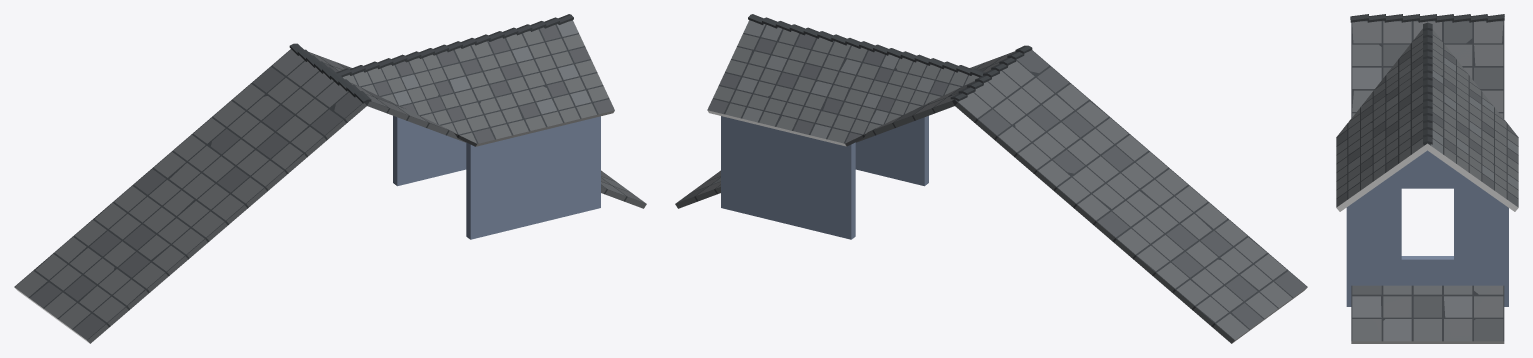
The model's file is Roof4_C8_06.fbx.
The picture shows the model from 3 angles, left to right: view 1: azimuth 30°, elevation 25°; view 2: azimuth 150°, elevation 25°; view 3: azimuth 270°, elevation 25°; orthographic projection. The views are drawn at different scales.
Visible parts, largest first — view 1: Roof4_C8_06; view 2: Roof4_C8_06; view 3: Roof4_C8_06.
Part boxes in pixels (x1,y1,x2,y2): Roof4_C8_06: [14, 14, 646, 343]; Roof4_C8_06: [675, 14, 1307, 343]; Roof4_C8_06: [1336, 14, 1518, 343].
Size of the model in its own units: 1105 by 338 by 298.
